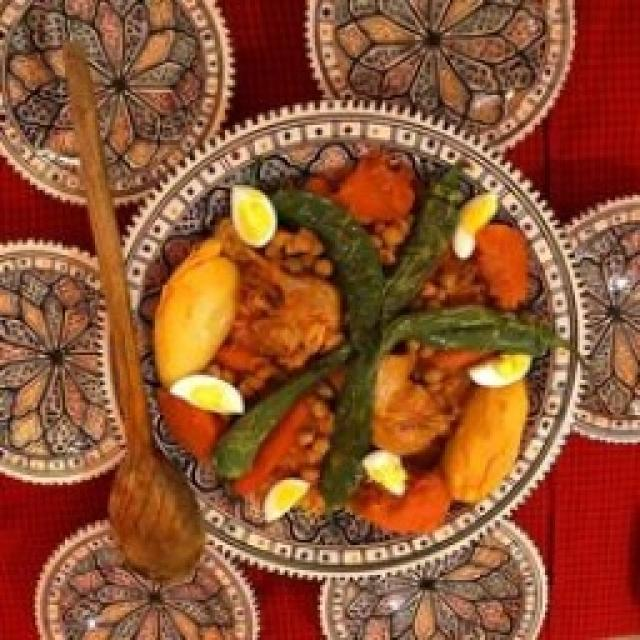Couscous: (152, 138, 555, 548)
